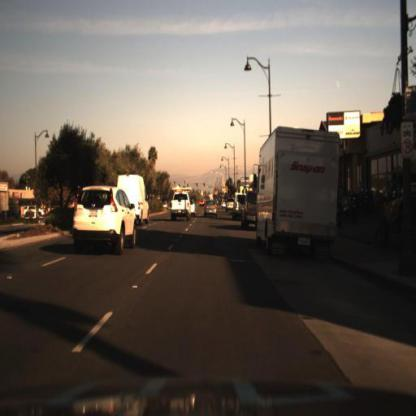car: (256, 123, 345, 273), (71, 180, 146, 254), (122, 169, 152, 232), (242, 183, 262, 232), (167, 189, 194, 220), (202, 200, 219, 220), (233, 192, 244, 222)
truck: (256, 126, 342, 261), (115, 170, 151, 226)
